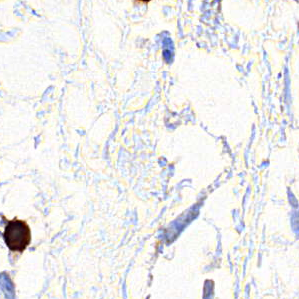Lymphocyte: (4, 219, 33, 254)
